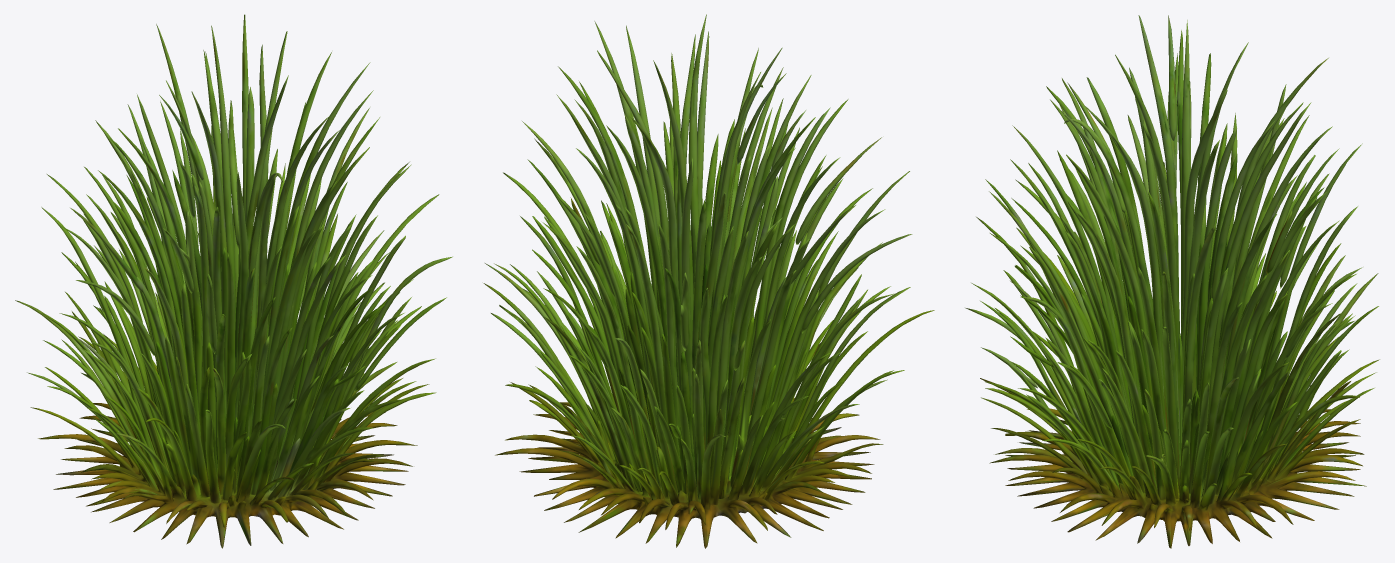
The model's file is swampgrass2.glb.
The picture shows the model from 3 angles, left to right: view 1: azimuth 30°, elevation 25°; view 2: azimuth 150°, elevation 25°; view 3: azimuth 270°, elevation 25°; orthographic projection. The views are drawn at different scales.
Parts seen in each view (by area): view 1: node_0; view 2: node_0; view 3: node_0.
Boxes of the visible parts, left/top/right/bottom form: node_0: left=15, top=14, right=452, bottom=548; node_0: left=483, top=14, right=934, bottom=548; node_0: left=965, top=15, right=1379, bottom=548.
Bounding box in the file's own units: 0.9056 × 0.9337 × 0.8055.
1 material, 1 textured.
